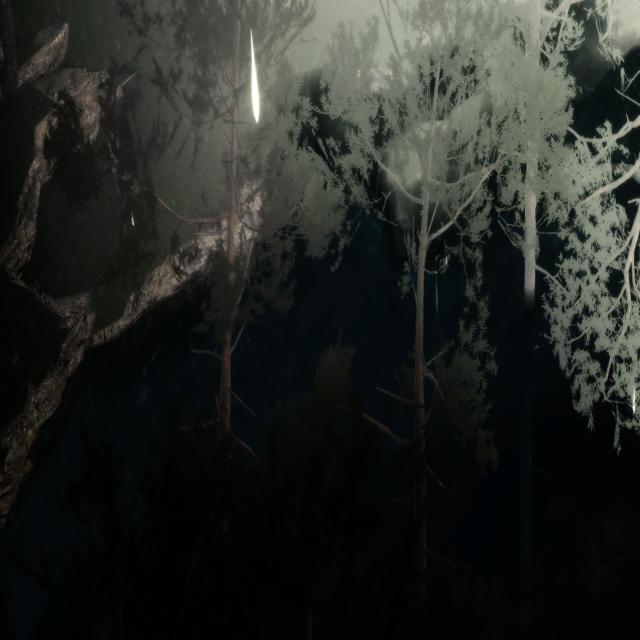Human: (107, 117, 142, 250)
